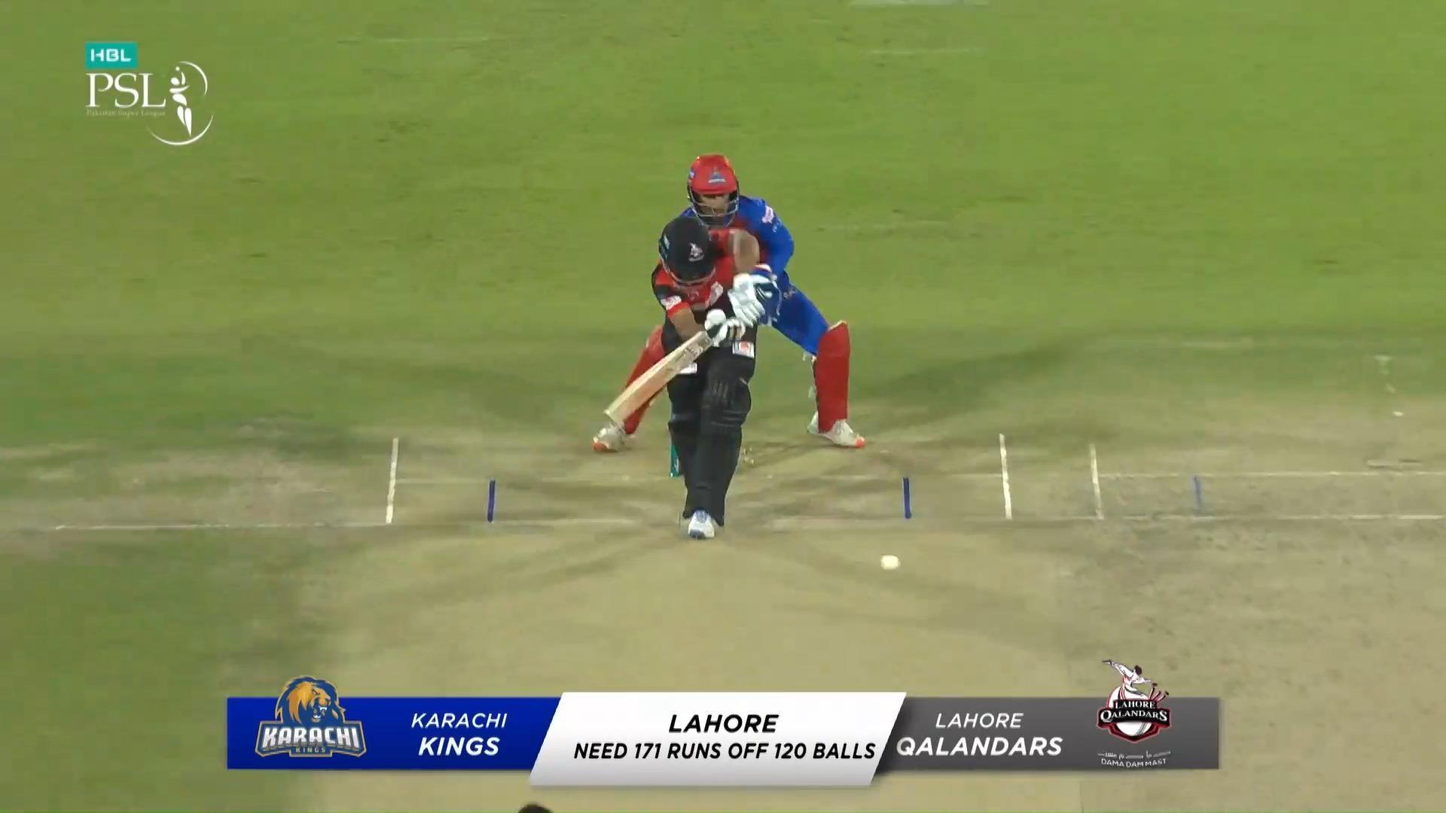BM 1: (603, 216, 766, 542)
BO: (516, 802, 554, 813)
